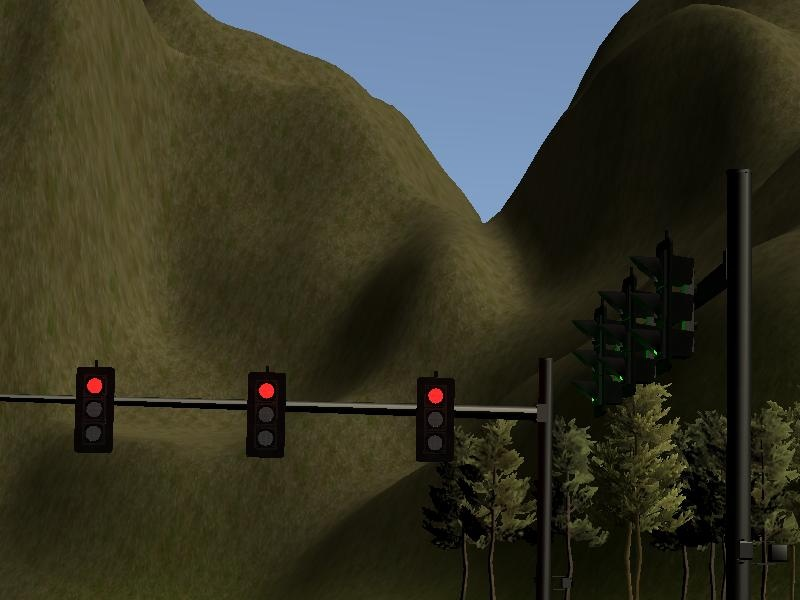RED: (415, 376, 454, 464), (247, 368, 286, 456), (73, 364, 112, 452)
